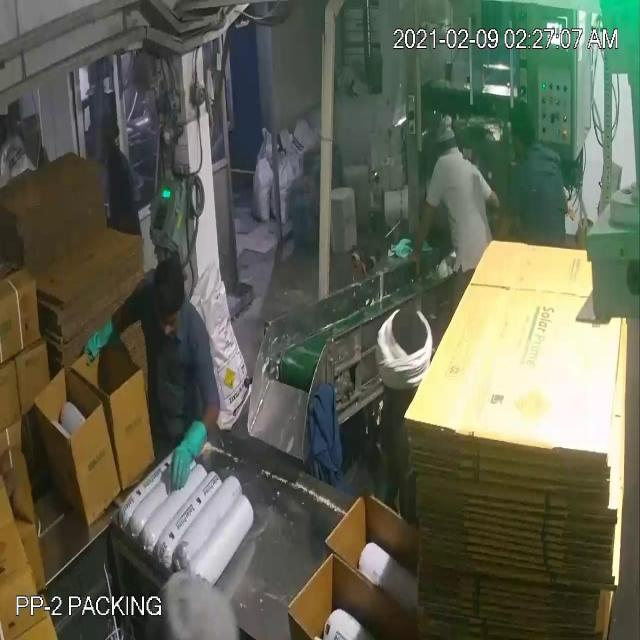Gloves: (34, 56, 422, 453)
